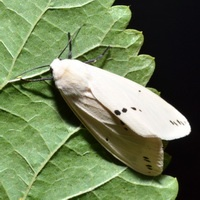insect: (52, 30, 189, 174), (0, 80, 125, 199)
